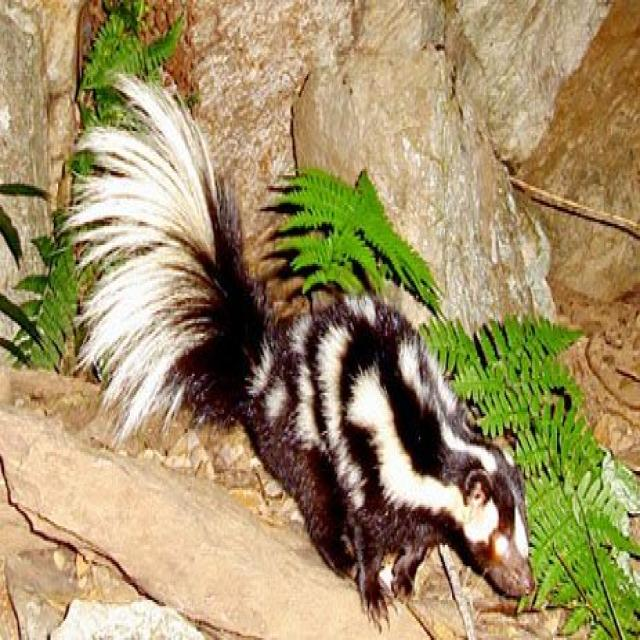Skunk: (68, 47, 544, 630)
